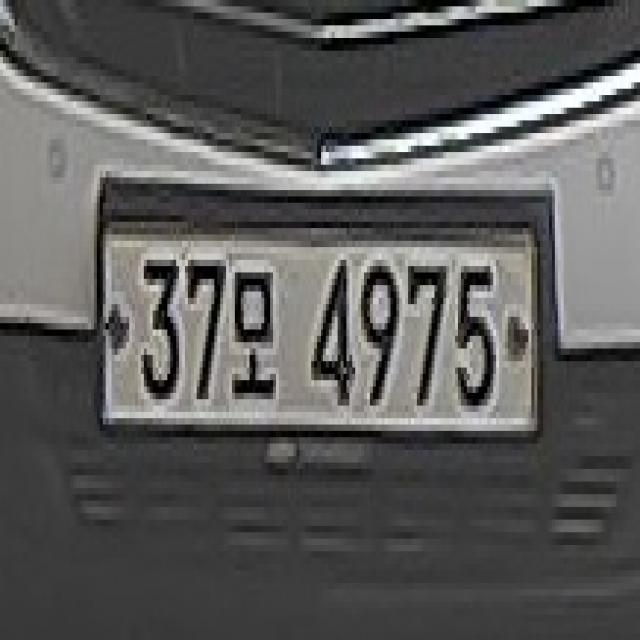3: (138, 247, 182, 406)
4: (308, 253, 355, 412)
5: (452, 254, 496, 418)
7: (405, 253, 449, 412), (185, 254, 229, 406)
9: (358, 254, 399, 406)
license_plate: (94, 203, 540, 450)
mo: (229, 266, 276, 399)
